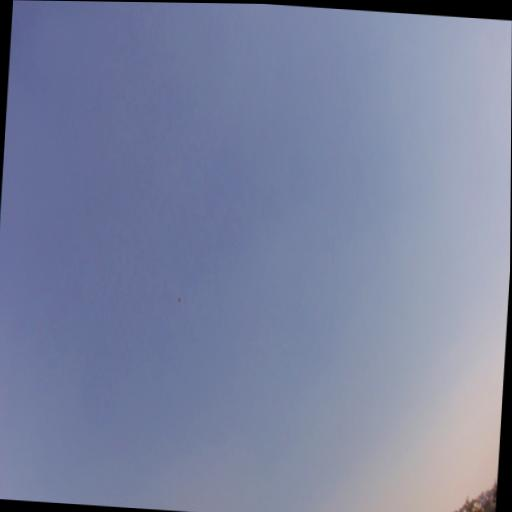drones: (175, 295, 183, 305)
